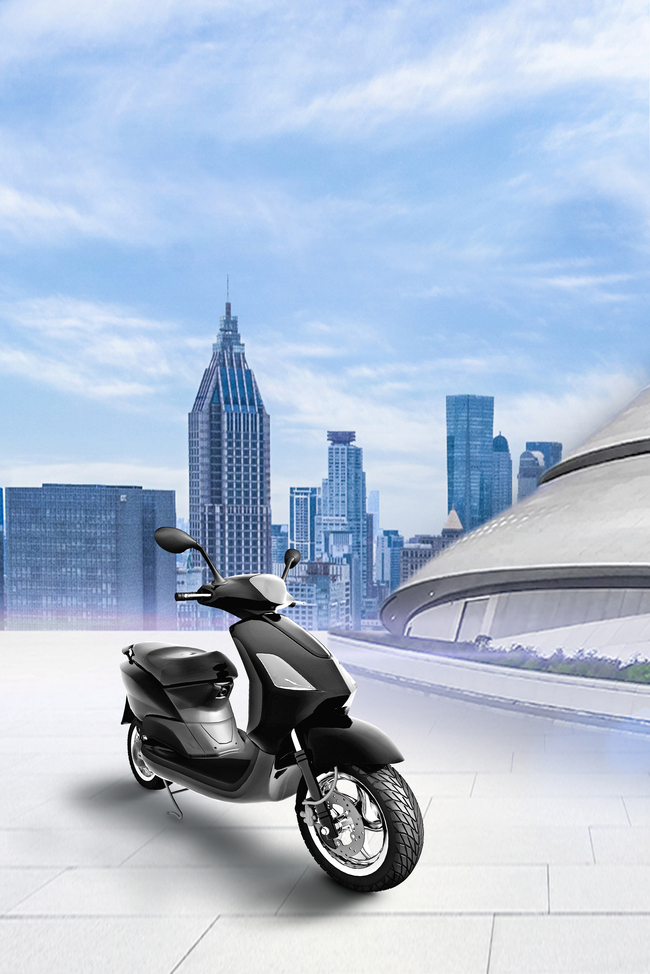MNV: (119, 574, 428, 891)
